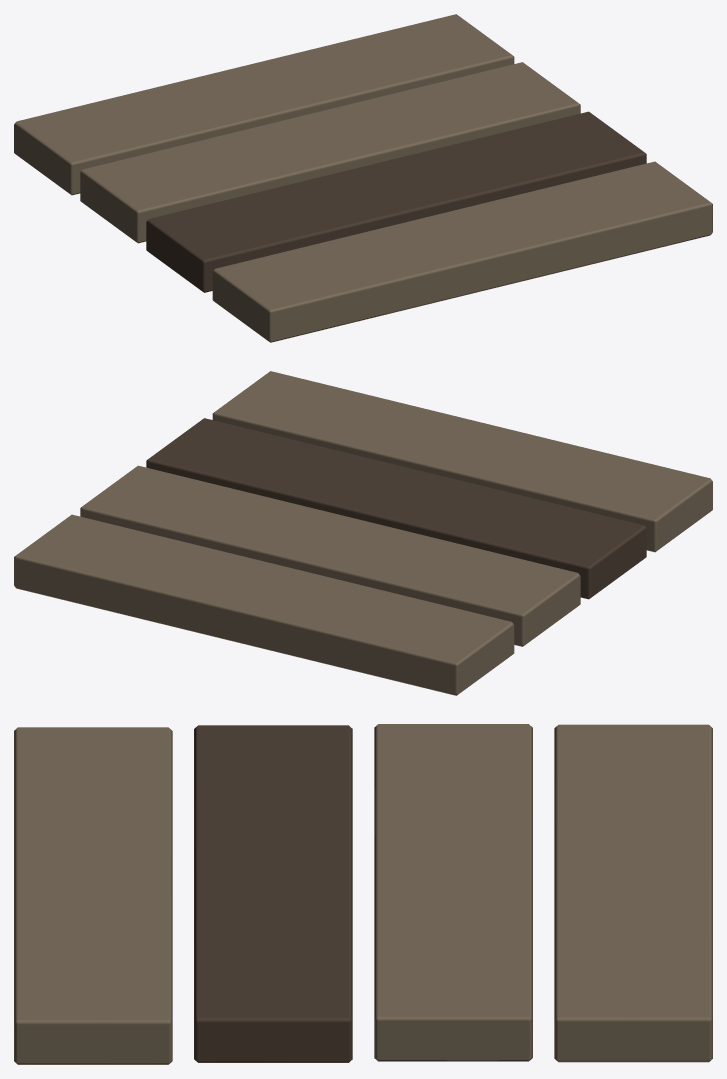
File: ghost-town-boardwalk-a.0da61ff2.glb
3 views of the same model, one above another, from view 1: azimuth 30°, elevation 25°; view 2: azimuth 150°, elevation 25°; view 3: azimuth 270°, elevation 25° (orthographic). The views are drawn at different scales.
Parts seen in each view (by area): view 1: body; view 2: body; view 3: body.
Part boxes in pixels (x1,y1,x2,y2): body: [14, 14, 712, 342]; body: [14, 371, 712, 695]; body: [14, 724, 712, 1064].
Bounding box in the file's own units: 0.97 × 0.075 × 0.97.
